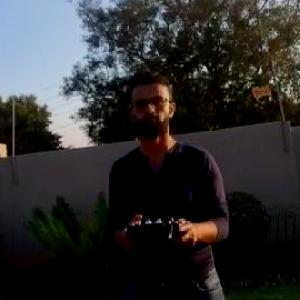follow: (94, 64, 230, 299)
